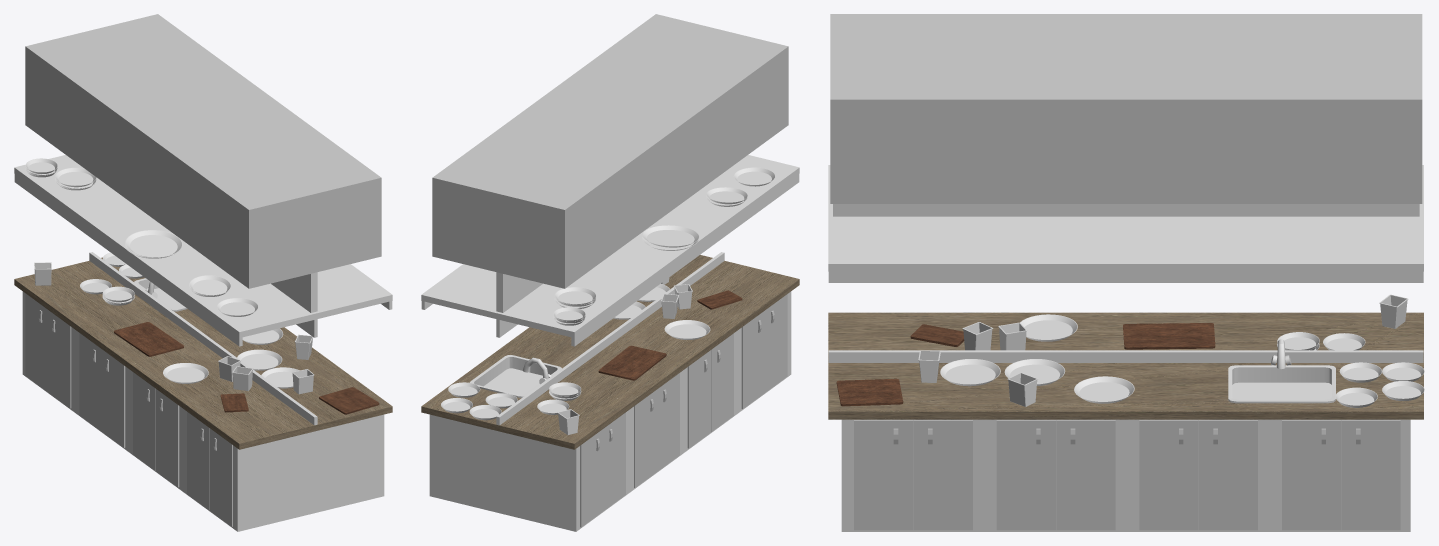
File: KitchenIsland.glb
3 renders of one model, left to right at view 1: azimuth 30°, elevation 25°; view 2: azimuth 150°, elevation 25°; view 3: azimuth 270°, elevation 25°, orthographic. The views are drawn at different scales.
Parts seen in each view (by area): view 1: Cube.008, Cube, Cube.005, Cube.001, Cube.003, Cube.002, Cube.006, Cube.016, Circle.022, Cube.007, Cube.017, Circle.004 (+8 smaller); view 2: Cube.008, Cube, Cube.001, Cube.005, Cube.003, Cube.002, Cube.006, Cube.016, Cube.014, Cube.007, Circle.022, Circle.004 (+5 smaller); view 3: Cube.008, Cube.005, Cube, Cube.003, Cube.001, Cube.007, Cube.006, Cube.002, Cube.014, Cube.016, Cube.017, Circle.007 (+11 smaller).
Part boxes in pixels (x1=…): Cube.008: x1=25, y1=14, x2=381, y2=288; Cube: x1=14, y1=257, x2=392, y2=449; Cube.005: x1=25, y1=293, x2=232, y2=526; Cube.001: x1=22, y1=288, x2=384, y2=531; Cube.003: x1=14, y1=155, x2=392, y2=337; Cube.002: x1=89, y1=252, x2=317, y2=425; Cube.006: x1=14, y1=174, x2=392, y2=346; Cube.016: x1=114, y1=322, x2=183, y2=356; Circle.022: x1=125, y1=230, x2=182, y2=257; Cube.007: x1=271, y1=272, x2=317, y2=312; Cube.017: x1=319, y1=387, x2=379, y2=414; Circle.004: x1=163, y1=363, x2=208, y2=383; Cube.008: x1=432, y1=14, x2=788, y2=288; Cube: x1=421, y1=255, x2=799, y2=449; Cube.001: x1=429, y1=291, x2=791, y2=531; Cube.005: x1=580, y1=294, x2=787, y2=527; Cube.003: x1=421, y1=155, x2=799, y2=337; Cube.002: x1=496, y1=252, x2=724, y2=425; Cube.006: x1=421, y1=174, x2=799, y2=346; Cube.016: x1=598, y1=345, x2=666, y2=380; Cube.014: x1=470, y1=355, x2=561, y2=397; Cube.007: x1=496, y1=272, x2=542, y2=312; Circle.022: x1=642, y1=225, x2=699, y2=247; Circle.004: x1=664, y1=320, x2=710, y2=339; Cube.008: x1=830, y1=14, x2=1422, y2=203; Cube.005: x1=854, y1=420, x2=1400, y2=530; Cube: x1=828, y1=312, x2=1423, y2=419; Cube.003: x1=828, y1=165, x2=1423, y2=271; Cube.001: x1=841, y1=382, x2=1410, y2=531; Cube.007: x1=833, y1=204, x2=1419, y2=216; Cube.006: x1=828, y1=271, x2=1423, y2=282; Cube.002: x1=828, y1=350, x2=1423, y2=362; Cube.014: x1=1228, y1=365, x2=1335, y2=403; Cube.016: x1=1123, y1=323, x2=1215, y2=349; Cube.017: x1=836, y1=378, x2=903, y2=406; Circle.007: x1=1074, y1=376, x2=1134, y2=403.
Bounding box in the file's own units: 3.96 × 7.81 × 9.87.
8 materials, 2 textured.
